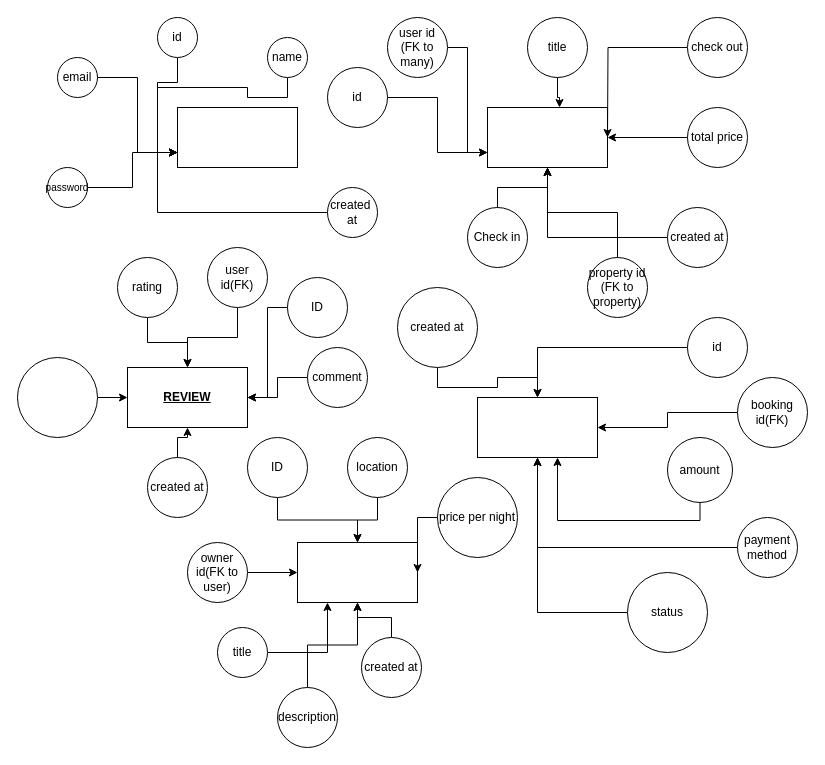
The diagram is 825 pixels wide and 765 high, and some of its shapes have lost their labels. Each missing label, with the box of its shape:
BOOKINGS: (486, 106, 608, 168)
PAYMENT: (476, 396, 598, 458)
PROPERTY: (296, 542, 418, 602)
property id(FK): (16, 356, 98, 438)
USER: (176, 106, 298, 168)
